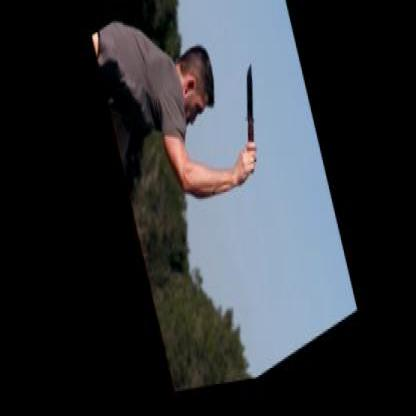knife: (214, 62, 276, 201)
